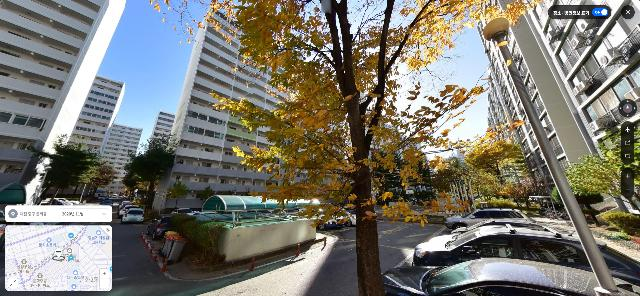ginkgo: (154, 0, 553, 296), (464, 139, 524, 207)
other: (26, 133, 103, 205), (124, 132, 176, 213), (165, 181, 188, 208)
